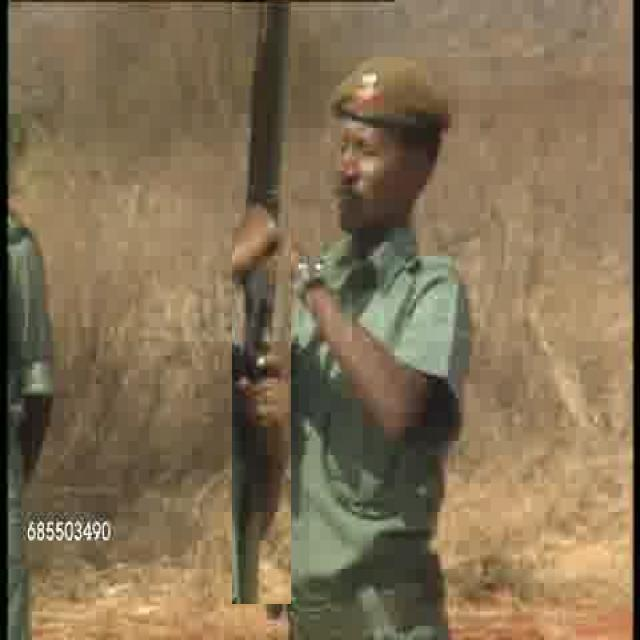poacher: (282, 46, 498, 633)
weapon: (232, 2, 291, 604)
